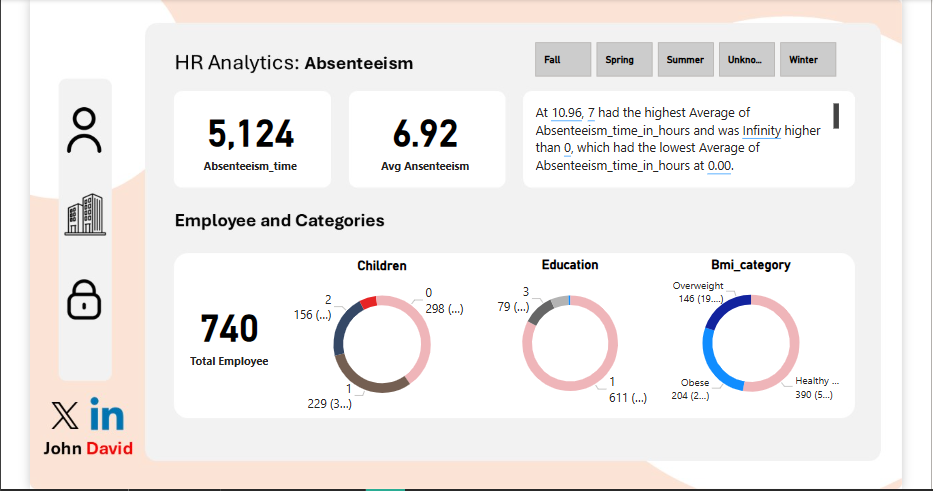

The page's visual inventory and layout, read from the dashboard file:
{"tool":"powerbi","page":{"name":"Overview","canvas":[1280,720],"ordinal":0},"visuals":[{"type":"donutChart","title":"Bmi_category","fields":{"Category":["Query1.bmi_category"],"Y":["CountNonNull(Query1.bmi_category)"]},"box":[923.6,379.5,270.4,231.3],"z":0},{"type":"donutChart","title":"Education","fields":{"Category":["Query1.Education"],"Y":["CountNonNull(Query1.bmi_category)"]},"box":[664.6,379.5,259,231.3],"z":1000},{"type":"donutChart","title":"Children","fields":{"Category":["Query1.Son"],"Y":["CountNonNull(Query1.bmi_category)"]},"box":[381.2,381.2,273.7,231.3],"z":2000},{"type":"cardVisual","fields":{"Data":["Avg(Query1.Absenteeism_time_in_hours)"]},"box":[477.3,148.2,206.9,117.3],"z":3000},{"type":"cardVisual","fields":{"Data":["CountNonNull(Query1.ID)"]},"box":[216.7,415.4,153.1,161.3],"z":4000},{"type":"cardVisual","fields":{"Data":["Sum(Query1.Absenteeism_time_in_hours)"]},"box":[216.7,148.2,215,117.3],"z":5000},{"type":"textbox","box":[737.9,148.2,456.1,117.3],"z":6000},{"type":"advancedSlicerVisual","fields":{"Values":["Query1.Season Break"]},"box":[737.9,58.6,456.1,60.3],"z":7000},{"type":"actionButton","box":[47.2,148.2,65.2,86.3],"z":8000},{"type":"actionButton","box":[47.2,273.7,65.2,86.3],"z":9000}]}

Visuals, with their boxes on the page's 1280x720 design canvas (x1, y1, x2, y2). These are canvas units, not pixel positions in the 933x491 screenshot, which may show the page scaled, cropped or inside an application window:
"Bmi_category" donutChart: box(924, 380, 1194, 611)
"Education" donutChart: box(665, 380, 924, 611)
"Children" donutChart: box(381, 381, 655, 612)
cardVisual - Avg(Query1.Absenteeism_time_in_hours): box(477, 148, 684, 266)
cardVisual - CountNonNull(Query1.ID): box(217, 415, 370, 577)
cardVisual - Sum(Query1.Absenteeism_time_in_hours): box(217, 148, 432, 266)
textbox: box(738, 148, 1194, 266)
advancedSlicerVisual - Query1.Season Break: box(738, 59, 1194, 119)
actionButton: box(47, 148, 112, 234)
actionButton: box(47, 274, 112, 360)
